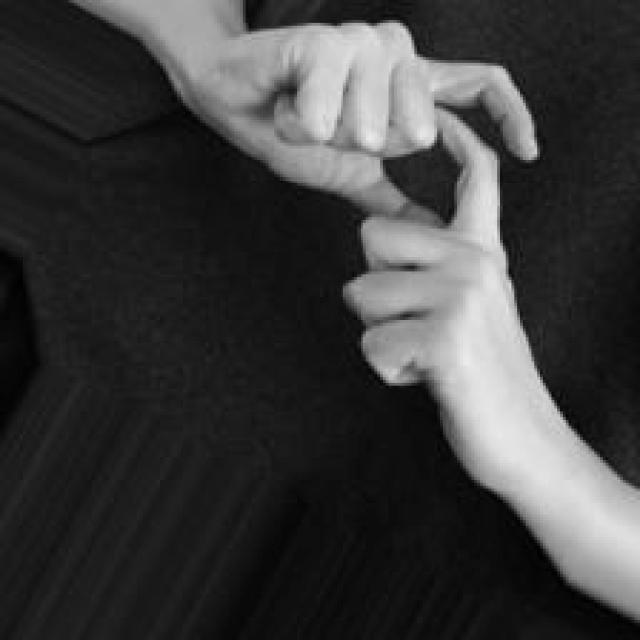G: (162, 3, 543, 495)
